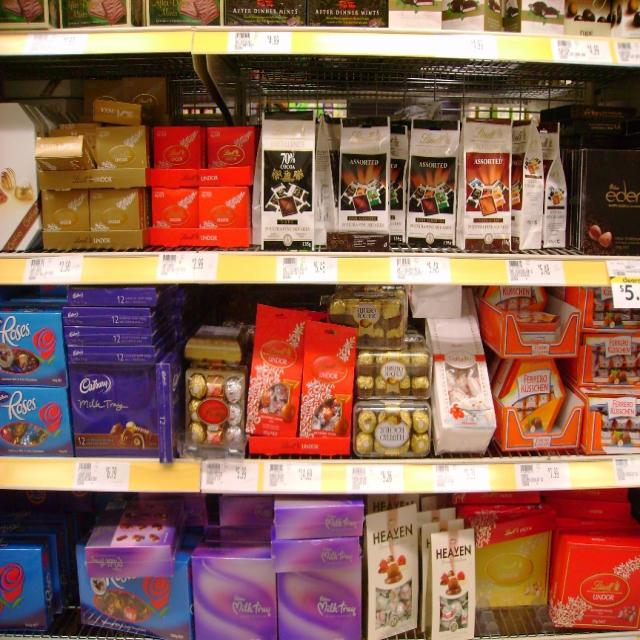q256: (81, 561, 186, 640), (0, 396, 84, 460), (0, 310, 63, 395)
q52: (260, 118, 316, 253)
